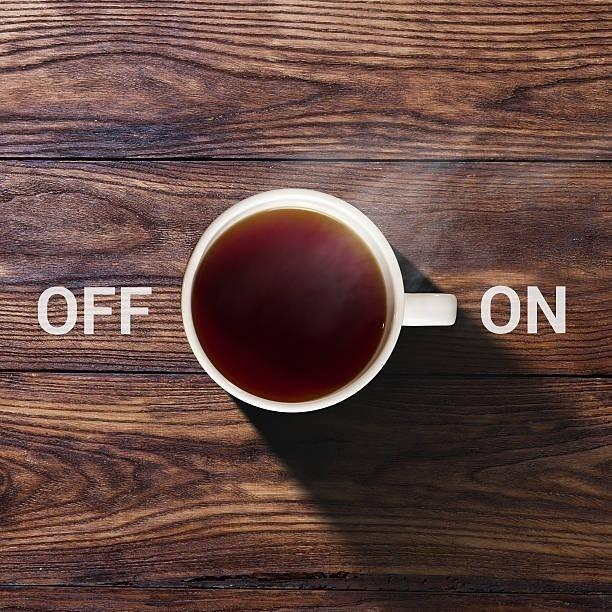cup-handle: (179, 186, 459, 423)
